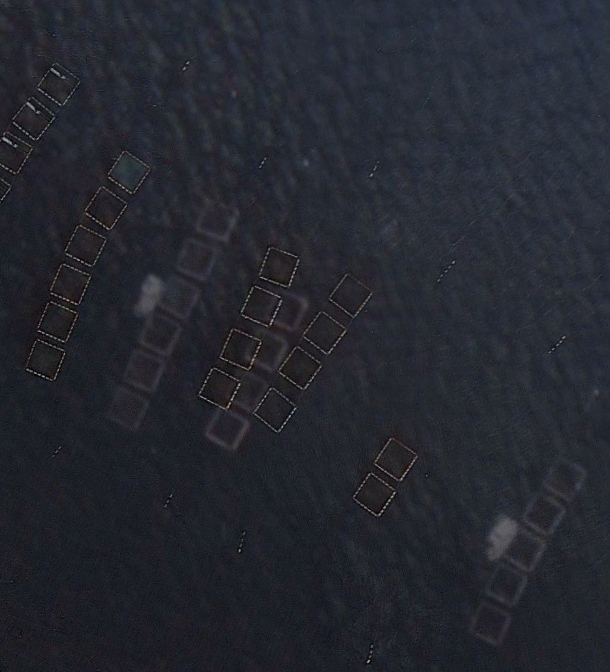square: (213, 321, 270, 372), (235, 271, 284, 330), (369, 432, 424, 483), (464, 598, 520, 648), (47, 256, 97, 308), (539, 454, 593, 502), (329, 264, 377, 317), (495, 526, 551, 571), (154, 273, 206, 321), (36, 296, 82, 350), (36, 56, 86, 105), (355, 467, 403, 518), (304, 305, 351, 357), (102, 382, 152, 430), (520, 490, 570, 537), (62, 215, 108, 266), (193, 364, 244, 409), (279, 345, 327, 392), (256, 388, 303, 436), (13, 95, 60, 142), (108, 148, 152, 197), (82, 183, 129, 228), (484, 563, 532, 607), (122, 340, 165, 388), (172, 236, 221, 278), (264, 240, 304, 290), (195, 196, 239, 241), (24, 339, 70, 382), (143, 310, 183, 353)
